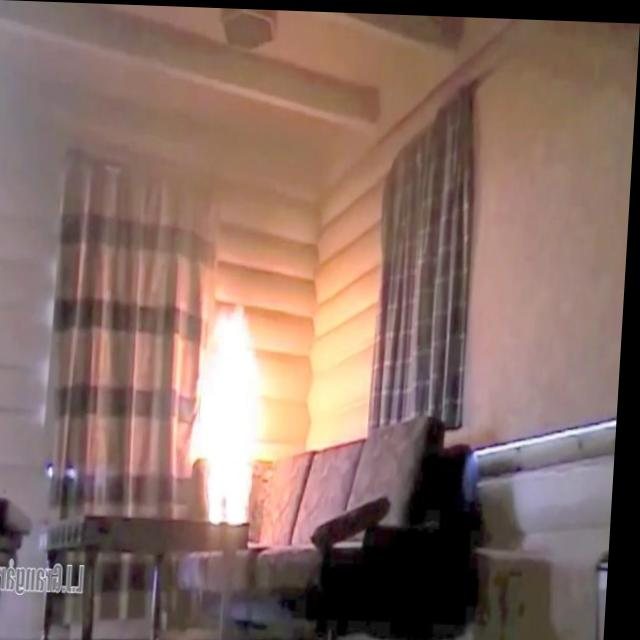fire: (188, 296, 279, 534)
